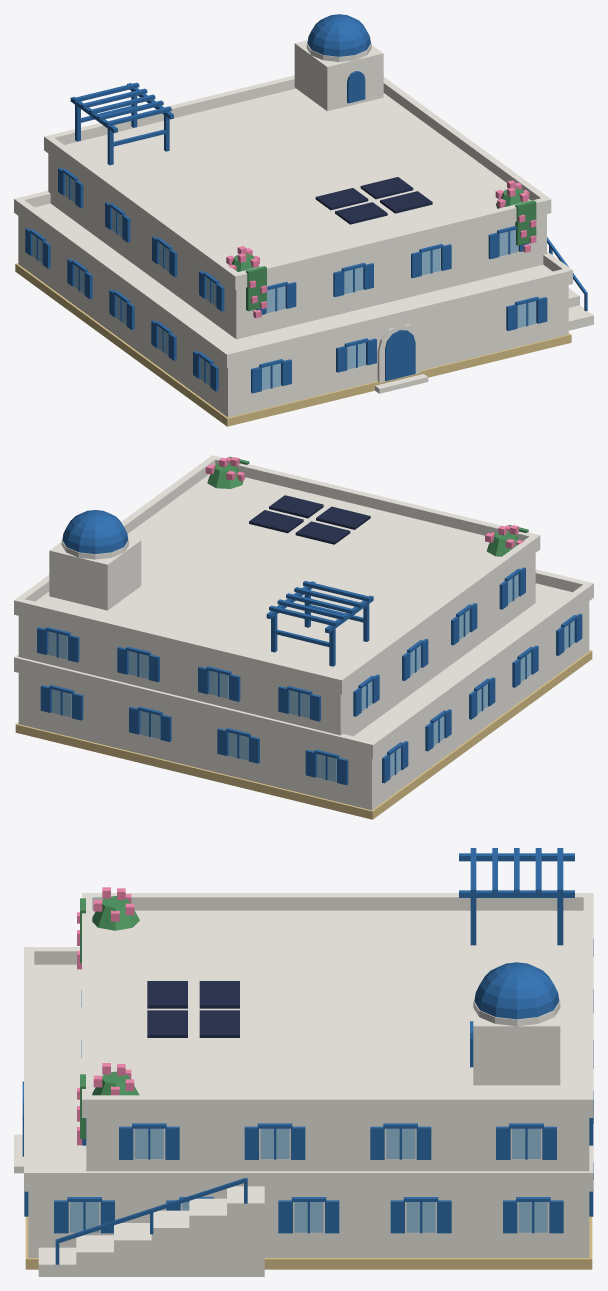
File: house-2x2-2f-aegean-a-solar.glb
3 views of the same model, one above another, from view 1: azimuth 30°, elevation 25°; view 2: azimuth 150°, elevation 25°; view 3: azimuth 270°, elevation 25° (orthographic). The views are drawn at different scales.
Parts seen in each view (by area): view 1: house-2x2-2f-aegean-a-solar; view 2: house-2x2-2f-aegean-a-solar; view 3: house-2x2-2f-aegean-a-solar.
Part boxes in pixels (x1,y1,x2,y2): house-2x2-2f-aegean-a-solar: (14,14,593,426); house-2x2-2f-aegean-a-solar: (14,455,593,819); house-2x2-2f-aegean-a-solar: (14,848,593,1276).
Size of the model in its own units: 1.99 by 1.03 by 2.
Materials: 1 (1 with a texture image).
